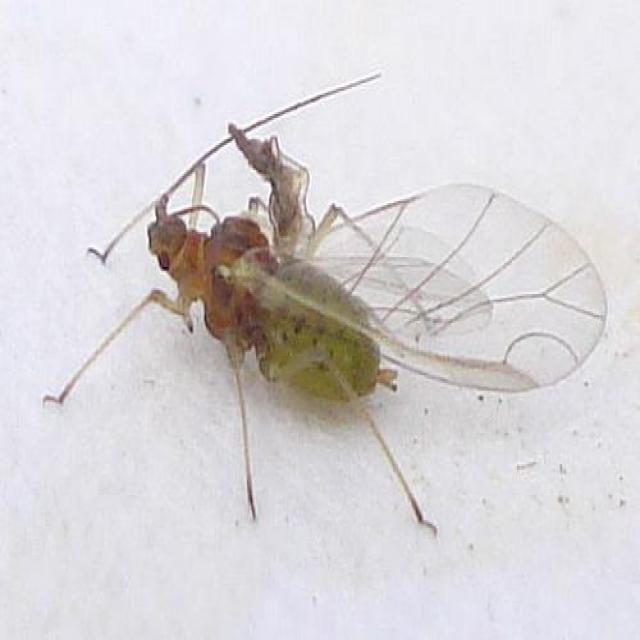aphid: (140, 130, 594, 476)
